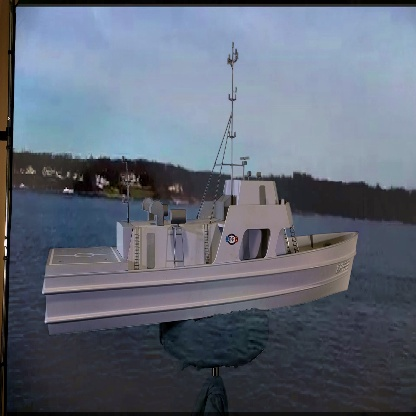YP689: (41, 40, 359, 338)
